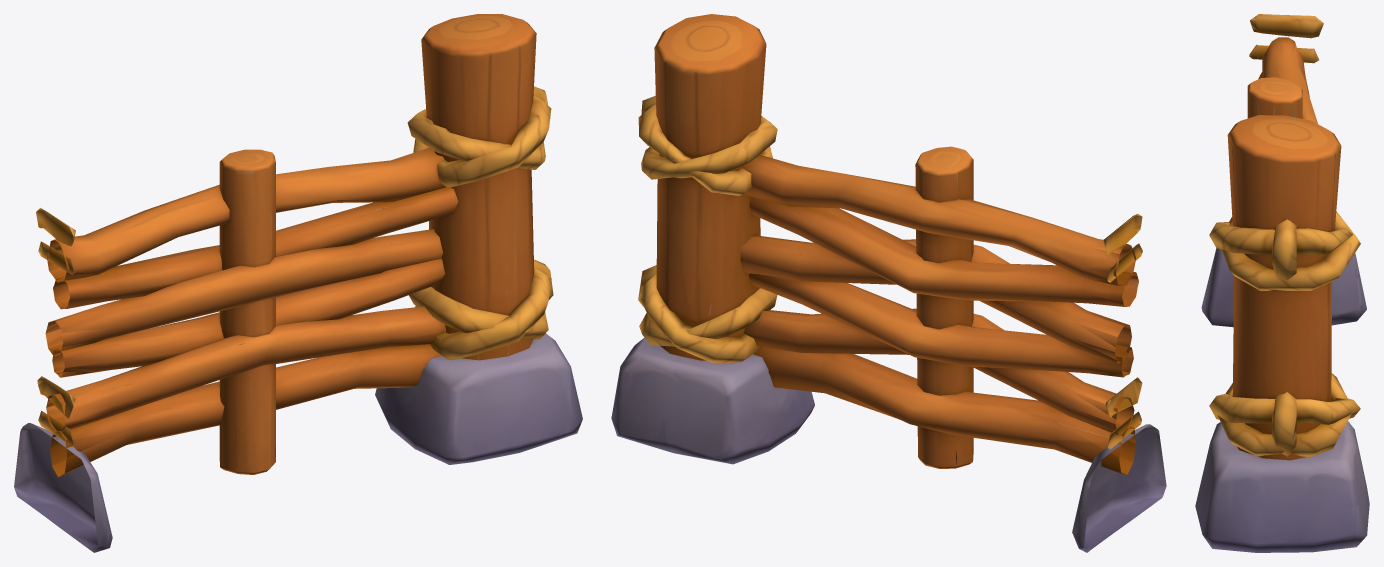
The model's file is fence_rail_open.glb.
3 renders of one model, left to right at view 1: azimuth 30°, elevation 25°; view 2: azimuth 150°, elevation 25°; view 3: azimuth 270°, elevation 25°, orthographic.
Parts seen in each view (by area): view 1: fence_rail; view 2: fence_rail; view 3: fence_rail.
Part boxes in pixels (box(x1,y1,x2,y2)): fence_rail: box(14, 14, 582, 552); fence_rail: box(611, 14, 1166, 552); fence_rail: box(1195, 14, 1369, 552).
Size of the model in its own units: 0.5371 by 0.4106 by 0.1655.
1 material, 1 textured.
